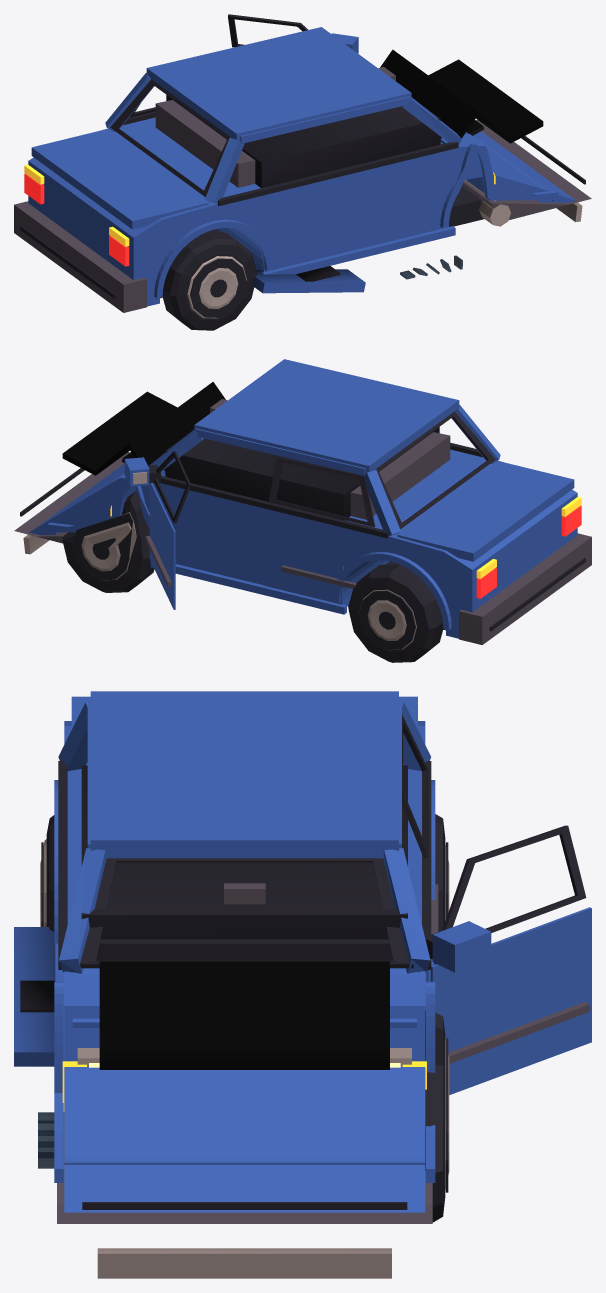
The model's file is prop.l10-abandoned-sedan-blue.lod1.glb.
3 views of the same model, one above another, from view 1: azimuth 30°, elevation 25°; view 2: azimuth 150°, elevation 25°; view 3: azimuth 270°, elevation 25° (orthographic). The views are drawn at different scales.
Visible parts, largest first — view 1: body, object 8, lightsBrake_emi_sirenRed, wheelFL, lightsBrake_emi_schoolBusYellow; view 2: body, object 8, wheelFR, lightsBrake_emi_sirenRed, lightsBrake_emi_schoolBusYellow; view 3: body, object 8, wheelFR.
Part boxes in pixels (box(x1,y1,x2,y2)): body: box(14, 27, 591, 312); object 8: box(129, 14, 582, 330); lightsBrake_emi_sirenRed: box(24, 173, 129, 266); wheelFL: box(479, 201, 510, 226); lightsBrake_emi_schoolBusYellow: box(24, 164, 129, 246); body: box(14, 359, 591, 644); object 8: box(23, 382, 443, 662); wheelFR: box(62, 491, 154, 592); lightsBrake_emi_sirenRed: box(476, 505, 581, 598); lightsBrake_emi_schoolBusYellow: box(476, 496, 581, 578); body: box(54, 691, 435, 1223); object 8: box(14, 714, 591, 1278); wheelFR: box(425, 1010, 449, 1222).
Bounding box in the file's own units: 4.46 × 1.64 × 2.75.
